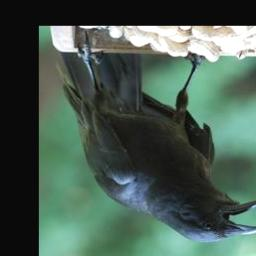Crow: (55, 31, 256, 244)
